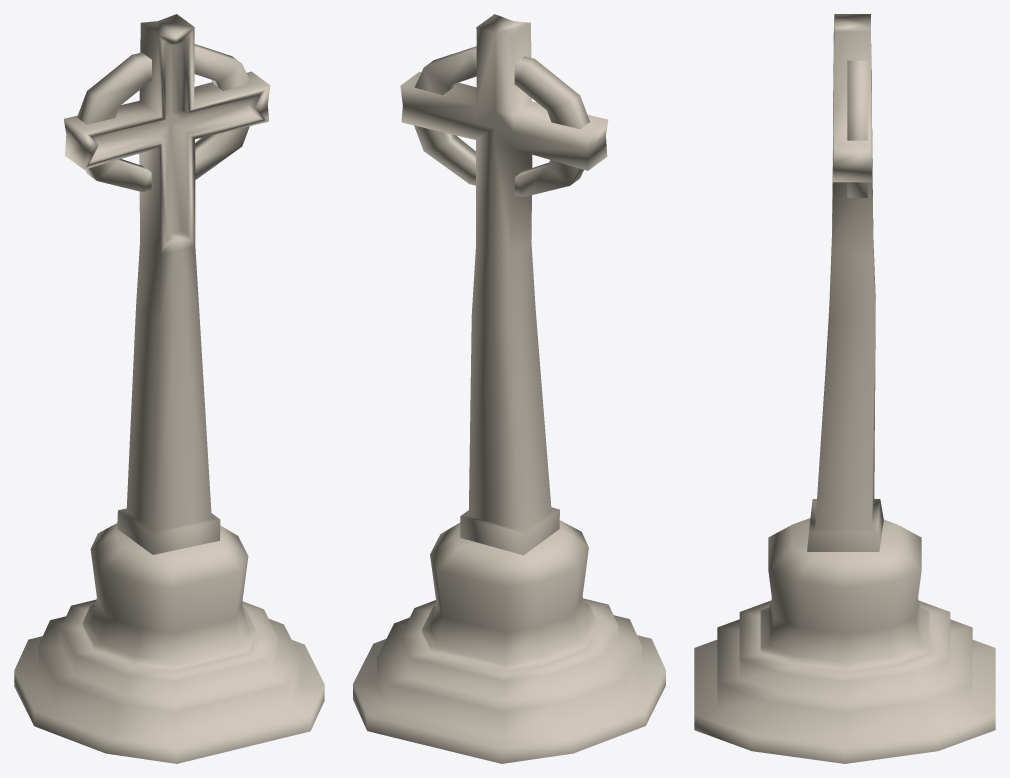
Rendered from War_Memorial.fbx.
3 renders of one model, left to right at view 1: azimuth 30°, elevation 25°; view 2: azimuth 150°, elevation 25°; view 3: azimuth 270°, elevation 25°, orthographic.
Parts seen in each view (by area): view 1: war_memorial; view 2: war_memorial; view 3: war_memorial.
Part boxes in pixels (bbox=[...]): war_memorial: bbox=[14, 14, 324, 763]; war_memorial: bbox=[353, 14, 665, 763]; war_memorial: bbox=[694, 14, 995, 763].
Bounding box in the file's own units: 4.16 × 9.77 × 3.96.
